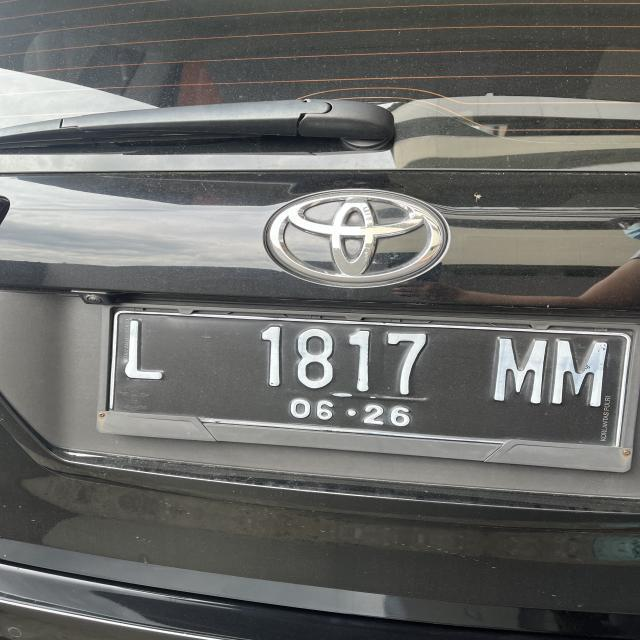1: (341, 328, 380, 396), (254, 323, 294, 388)
7: (385, 327, 430, 403)
8: (298, 322, 342, 392)
L: (123, 318, 172, 388)
M: (496, 330, 544, 405), (555, 339, 604, 407)
